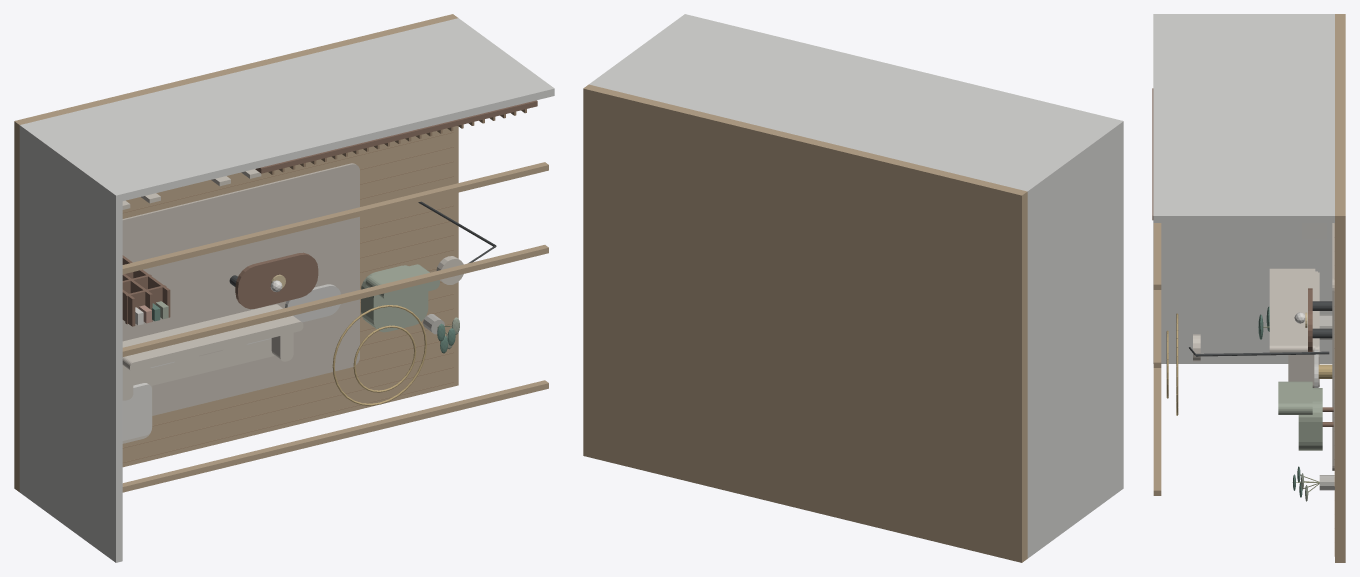
File: 3d-modern-living-room.glb
3 renders of one model, left to right at view 1: azimuth 30°, elevation 25°; view 2: azimuth 150°, elevation 25°; view 3: azimuth 270°, elevation 25°, orthographic. The views are drawn at different scales.
Visible parts, largest first — view 1: rear_feature_wall_002, left_wall_003, foundation_floor_001, area_rug_073, ceiling_wood_beam_213, ceiling_wood_beam_214, ceiling_wood_beam_215, sofa_backrest_075, large_nesting_coffee_table_089, sofa_seat_074, accent_lounge_chair_085, tv_feature_wall_041 (+3 smaller); view 2: foundation_floor_001, rear_feature_wall_002, left_wall_003; view 3: rear_feature_wall_002, left_wall_003, foundation_floor_001, sofa_backrest_075, accent_lounge_chair_085, accent_chair_back_086, ceiling_wood_beam_213, area_rug_073, ceiling_wood_beam_214, sofa_arm_077, thin_baseboard_left_005, ceiling_wood_beam_215 (+5 smaller).
Part boxes in pixels (x1,y1,x2,y2): rear_feature_wall_002: [19, 18, 554, 202]; left_wall_003: [19, 124, 122, 562]; foundation_floor_001: [14, 14, 458, 491]; area_rug_073: [122, 163, 359, 415]; ceiling_wood_beam_213: [122, 380, 548, 492]; ceiling_wood_beam_214: [122, 245, 548, 356]; ceiling_wood_beam_215: [122, 162, 548, 274]; sofa_backrest_075: [122, 304, 303, 371]; large_nesting_coffee_table_089: [235, 252, 318, 309]; sofa_seat_074: [123, 305, 274, 385]; accent_lounge_chair_085: [361, 265, 428, 332]; tv_feature_wall_041: [255, 100, 537, 173]; foundation_floor_001: [583, 84, 1027, 562]; rear_feature_wall_002: [589, 14, 1123, 198]; left_wall_003: [1025, 120, 1123, 558]; rear_feature_wall_002: [1153, 14, 1334, 222]; left_wall_003: [1153, 14, 1334, 363]; foundation_floor_001: [1335, 14, 1345, 562]; sofa_backrest_075: [1269, 268, 1315, 352]; accent_lounge_chair_085: [1298, 388, 1322, 450]; accent_chair_back_086: [1278, 381, 1312, 414]; ceiling_wood_beam_213: [1153, 368, 1161, 495]; area_rug_073: [1332, 223, 1334, 470]; ceiling_wood_beam_214: [1153, 290, 1161, 367]; sofa_arm_077: [1288, 345, 1317, 387]; thin_baseboard_left_005: [1327, 223, 1332, 360]; ceiling_wood_beam_215: [1153, 223, 1161, 289].
Size of the model in its own units: 10 by 8 by 4.04.
